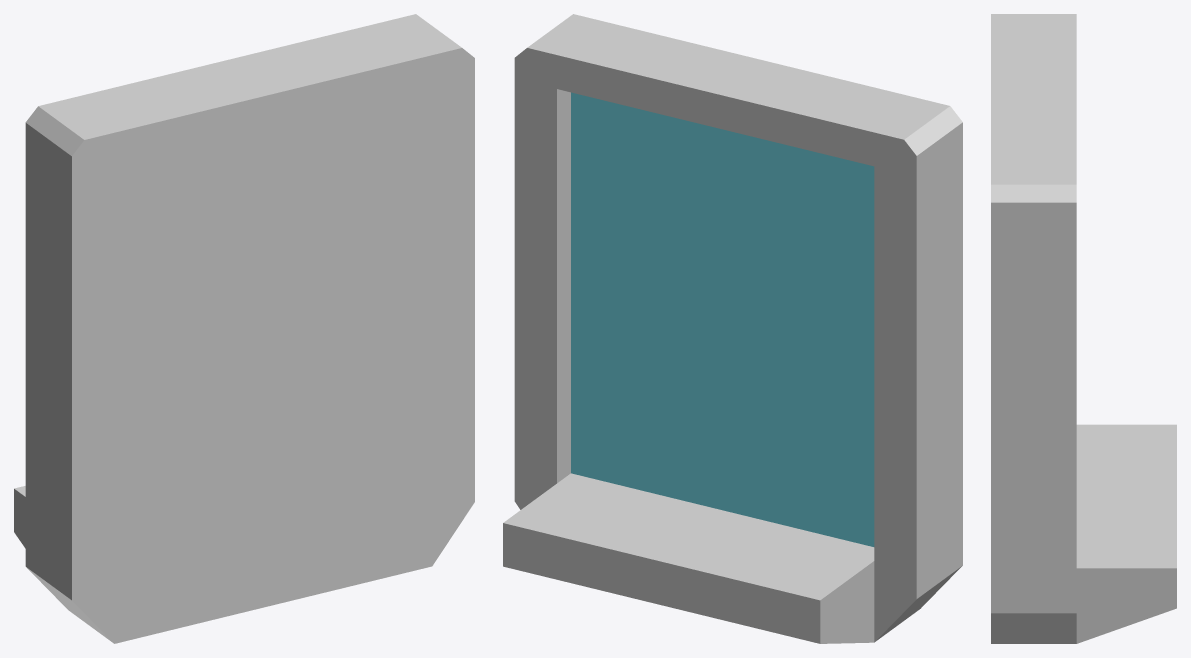
Rendered from Window_Cill.fbx.
3 views of the same model, side by side, from view 1: azimuth 30°, elevation 25°; view 2: azimuth 150°, elevation 25°; view 3: azimuth 270°, elevation 25° (orthographic). The views are drawn at different scales.
Visible parts, largest first — view 1: Window_Cill; view 2: Window_Cill; view 3: Window_Cill.
Part boxes in pixels (left/top/right/bottom): Window_Cill: left=14, top=14, right=474, bottom=643; Window_Cill: left=503, top=14, right=962, bottom=643; Window_Cill: left=991, top=14, right=1176, bottom=643.
Size of the model in its own units: 2.54 by 1.09 by 3.07.
